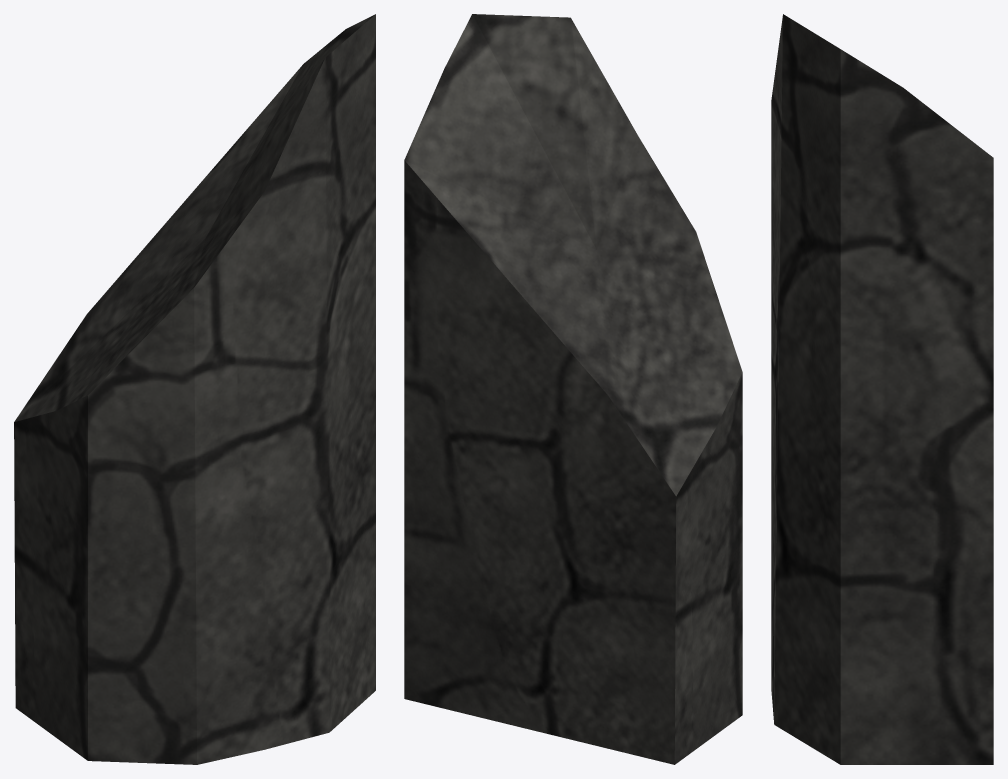
Rendered from stone_pillar_1.fbx.
3 renders of one model, left to right at view 1: azimuth 30°, elevation 25°; view 2: azimuth 150°, elevation 25°; view 3: azimuth 270°, elevation 25°, orthographic. The views are drawn at different scales.
Visible parts, largest first — view 1: ruraltown_house_standard.007; view 2: ruraltown_house_standard.007; view 3: ruraltown_house_standard.007.
Boxes of the visible parts, box(x1,y1,x2,y2) form: ruraltown_house_standard.007: box(14, 14, 375, 764); ruraltown_house_standard.007: box(404, 14, 742, 764); ruraltown_house_standard.007: box(771, 14, 993, 764).
Size of the model in its own units: 73.24 by 163 by 45.97.
